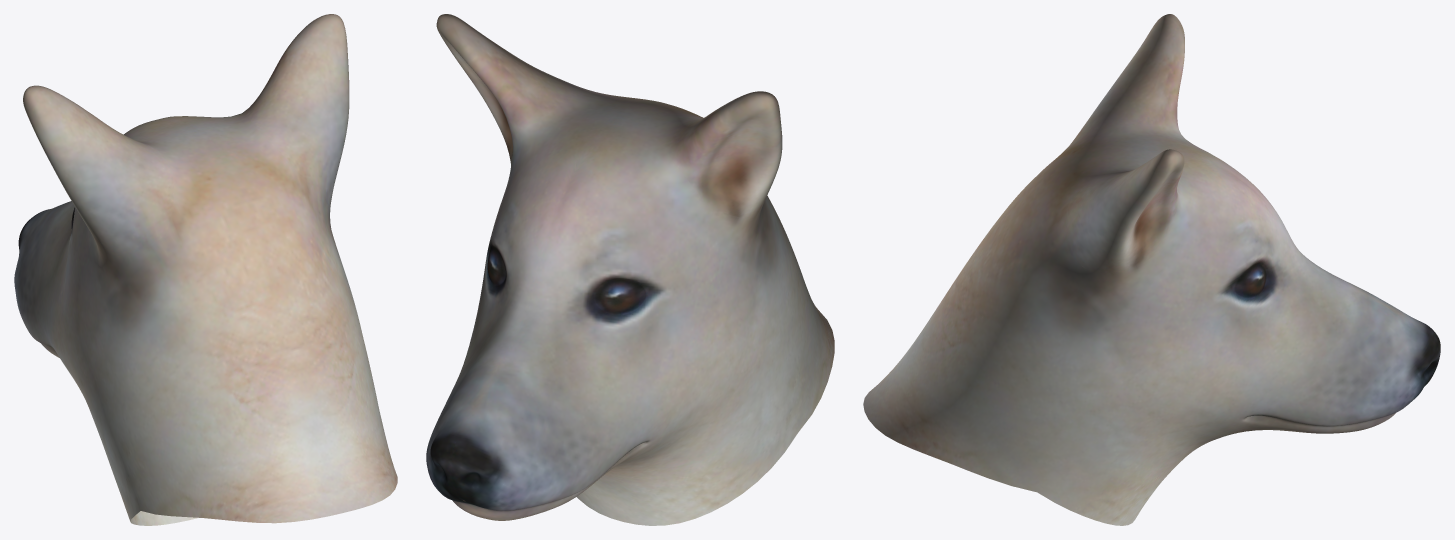
The model's file is Cabeza.obj.
3 views of the same model, side by side, from view 1: azimuth 30°, elevation 25°; view 2: azimuth 150°, elevation 25°; view 3: azimuth 270°, elevation 25° (orthographic). The views are drawn at different scales.
Parts seen in each view (by area): view 1: Canaan_Dog; view 2: Canaan_Dog; view 3: Canaan_Dog.
Boxes of the visible parts, x1,y1,x2,y2 form: Canaan_Dog: (14, 14, 397, 525); Canaan_Dog: (426, 14, 834, 525); Canaan_Dog: (863, 14, 1440, 525).
Bounding box in the file's own units: 8.5 × 11.58 × 14.22.
Materials: 1 (1 with a texture image).
